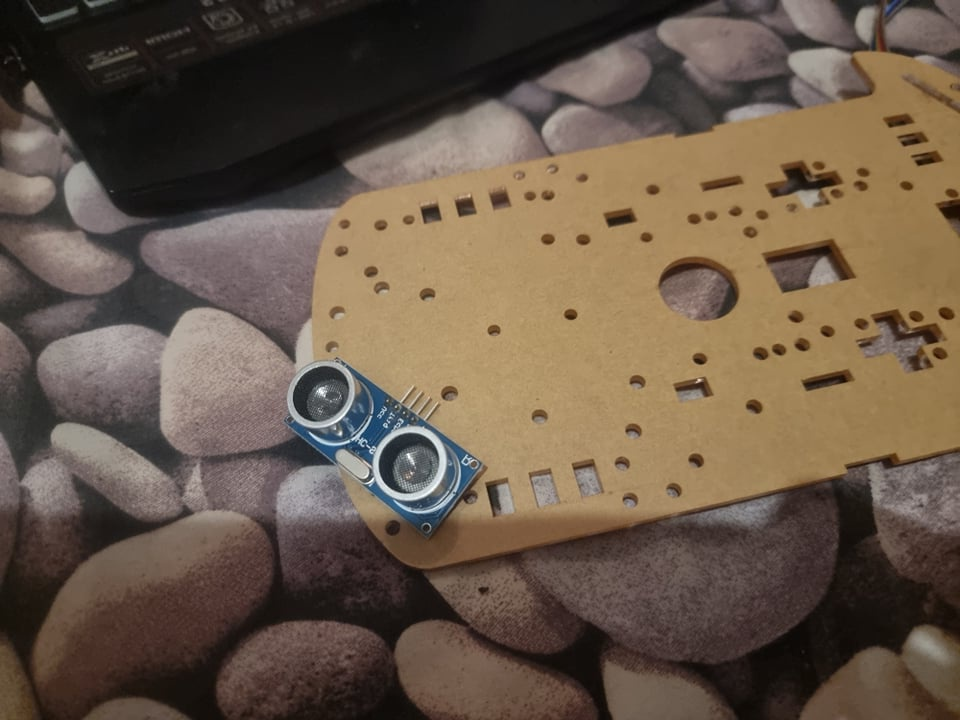SENSOR: (284, 358, 491, 542)
